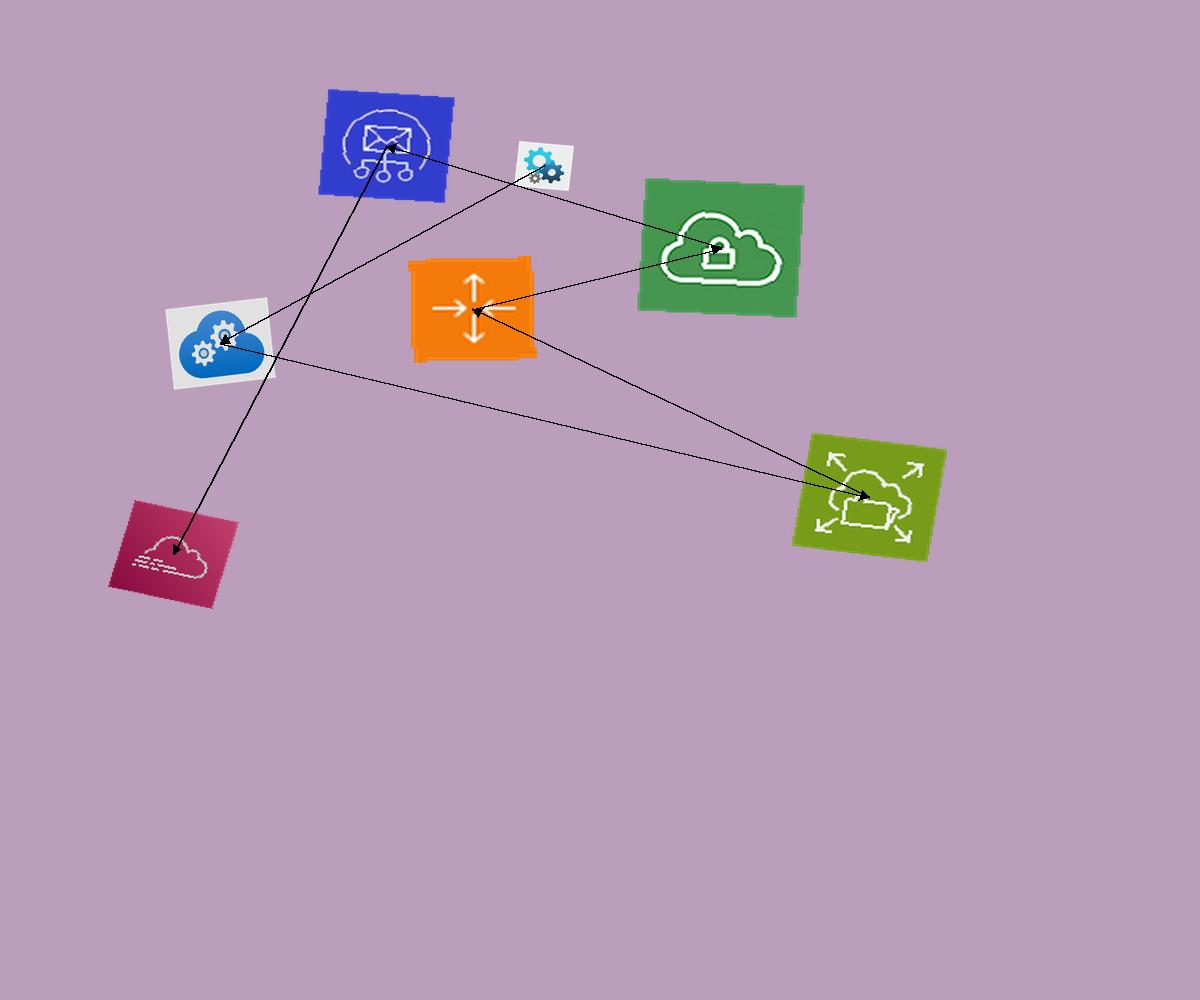AWS-CloudTrail: (108, 500, 239, 609)
AWS-EFS: (791, 432, 948, 563)
AWS-Private_vpc: (636, 177, 806, 319)
AWS-Scaling-group: (408, 256, 537, 363)
AWS-Simple-Email-Service: (317, 88, 456, 204)
Azure_api: (514, 141, 574, 191)
Azure_cloud_services: (165, 297, 276, 390)
